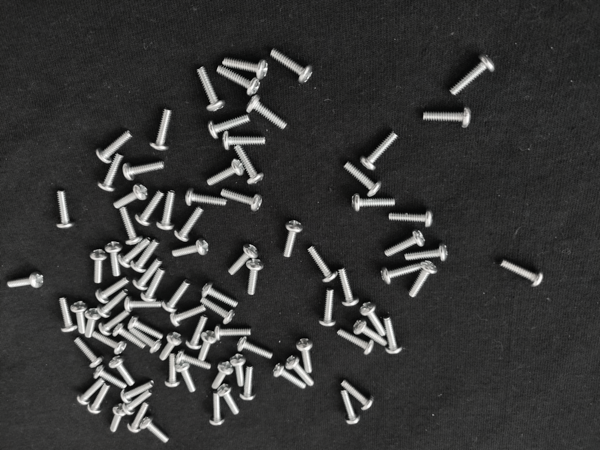shortscrew: (450, 54, 497, 96), (247, 92, 288, 130), (270, 48, 313, 84), (361, 131, 399, 171), (216, 64, 261, 95), (344, 162, 383, 197), (197, 66, 226, 112), (233, 144, 264, 185), (307, 244, 338, 284), (501, 261, 545, 288), (97, 131, 132, 164), (385, 229, 426, 257), (424, 106, 473, 129), (174, 206, 205, 242), (135, 190, 165, 227), (410, 260, 438, 298), (207, 159, 245, 187), (201, 281, 239, 309), (341, 380, 375, 411), (208, 114, 250, 139), (223, 57, 268, 80), (381, 262, 424, 286), (336, 329, 375, 355), (353, 320, 389, 348), (229, 243, 259, 276), (285, 353, 315, 386), (162, 280, 192, 313), (118, 238, 151, 268), (95, 277, 130, 305), (98, 153, 123, 192), (360, 301, 387, 337), (200, 298, 236, 325), (222, 187, 262, 211), (75, 336, 103, 369), (272, 362, 306, 389), (131, 240, 158, 274), (150, 109, 171, 152), (389, 208, 434, 228), (98, 289, 128, 319), (119, 208, 143, 245), (352, 193, 396, 213), (337, 266, 359, 306), (114, 184, 149, 209), (129, 315, 164, 340), (132, 260, 161, 290), (113, 323, 146, 349), (238, 335, 273, 359), (93, 365, 128, 389), (99, 310, 131, 336), (405, 243, 448, 262), (223, 132, 266, 151), (121, 380, 155, 404), (170, 305, 207, 327), (132, 327, 162, 354), (109, 355, 134, 387), (156, 190, 176, 230), (340, 387, 361, 425), (142, 267, 164, 303), (140, 417, 169, 444), (92, 332, 126, 355), (55, 189, 75, 228), (122, 390, 153, 415), (186, 315, 208, 350), (123, 162, 163, 181), (186, 188, 227, 206), (284, 220, 303, 258), (318, 289, 337, 327), (384, 317, 403, 355), (78, 380, 105, 406), (173, 239, 209, 258), (59, 297, 78, 333), (212, 359, 234, 390), (217, 384, 239, 415), (246, 258, 264, 295), (127, 403, 148, 434), (88, 384, 109, 415), (296, 338, 314, 374), (124, 296, 162, 313), (160, 333, 183, 361), (89, 249, 107, 284), (240, 365, 257, 401), (214, 325, 252, 341), (177, 362, 196, 393), (105, 242, 122, 276), (8, 272, 43, 288), (210, 391, 225, 427), (199, 331, 216, 362), (84, 308, 101, 339), (165, 353, 180, 388), (230, 354, 245, 387), (71, 301, 86, 334), (110, 406, 127, 433)
